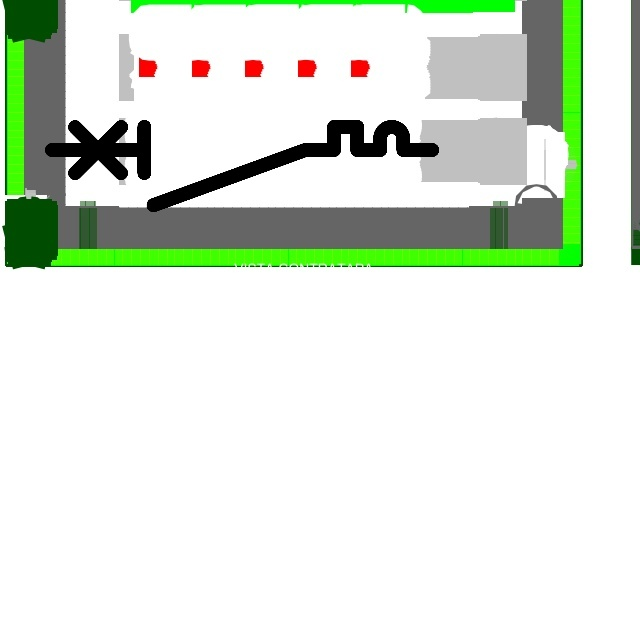interruptor_termomagnetico: (42, 117, 442, 215)
